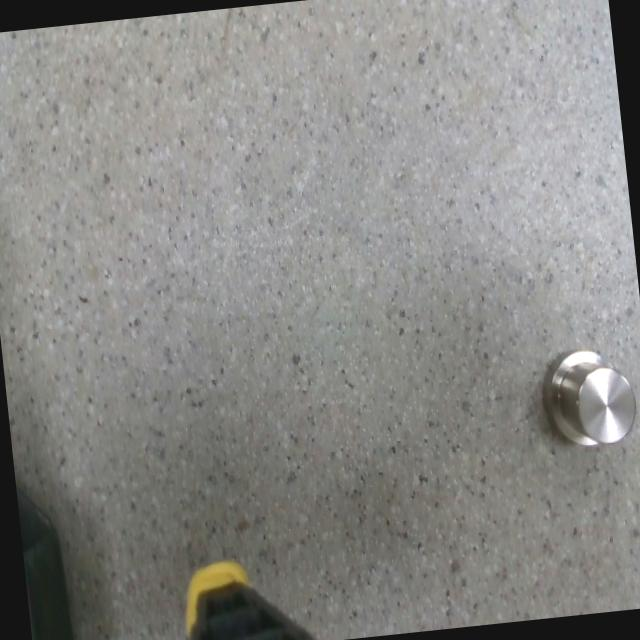sensor: (536, 342, 638, 451)
